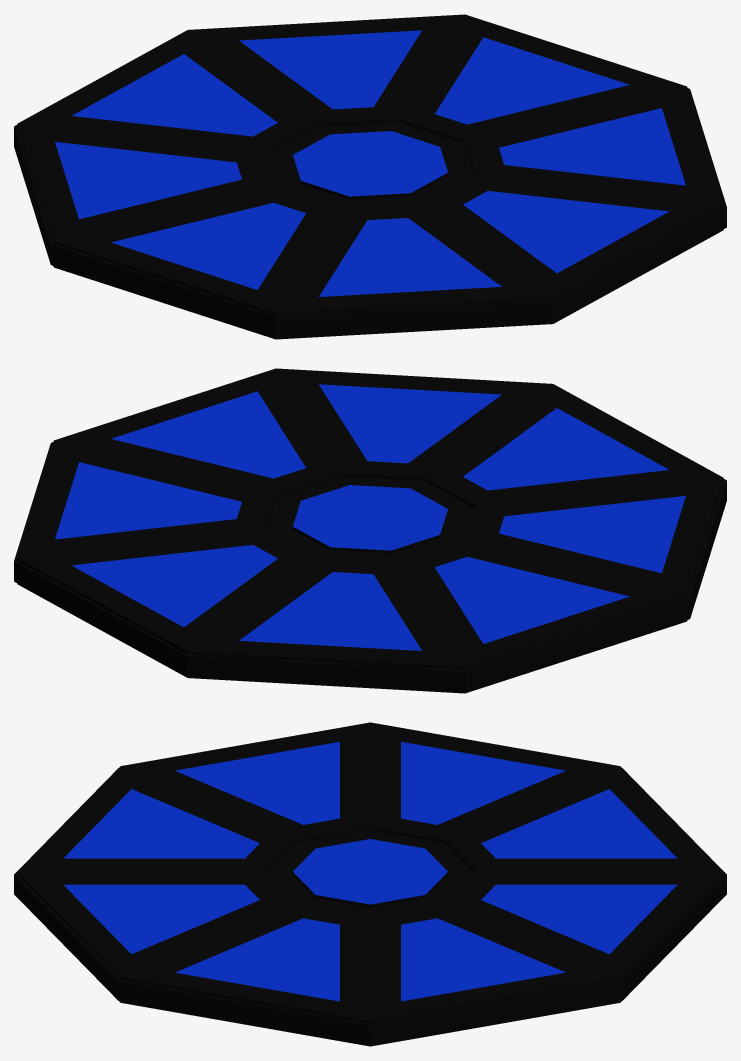
File: maviplak.fbx
3 views of the same model, one above another, from view 1: azimuth 30°, elevation 25°; view 2: azimuth 150°, elevation 25°; view 3: azimuth 270°, elevation 25° (orthographic). The views are drawn at different scales.
Visible parts, largest first — view 1: Cylinder; view 2: Cylinder; view 3: Cylinder.
Part boxes in pixels (x1,y1,x2,y2): Cylinder: [14, 14, 726, 339]; Cylinder: [14, 368, 726, 693]; Cylinder: [14, 722, 726, 1046].
Bounding box in the file's own units: 564 × 22.42 × 564.
